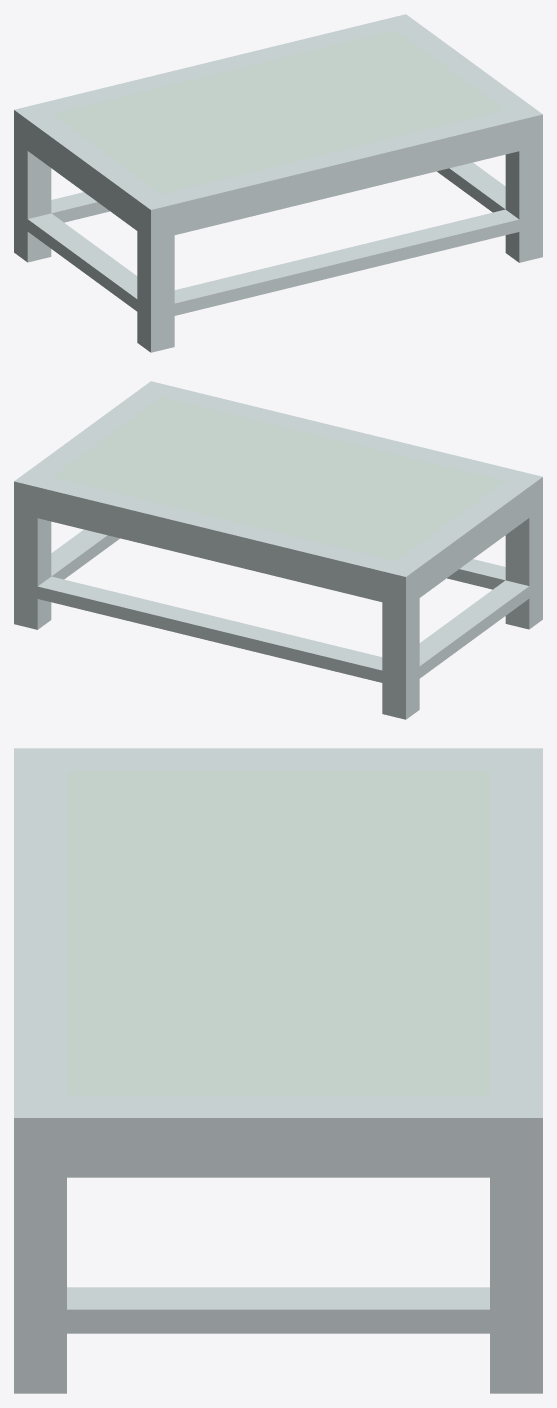
File: tableCoffeeGlass.glb
The picture shows the model from 3 angles, top to bottom: view 1: azimuth 30°, elevation 25°; view 2: azimuth 150°, elevation 25°; view 3: azimuth 270°, elevation 25°; orthographic projection. The views are drawn at different scales.
Visible parts, largest first — view 1: tableCoffeeGlass(Clone); view 2: tableCoffeeGlass(Clone); view 3: tableCoffeeGlass(Clone).
Boxes of the visible parts, box(x1,y1,x2,y2) form: tableCoffeeGlass(Clone): box(14, 14, 542, 352); tableCoffeeGlass(Clone): box(14, 381, 542, 719); tableCoffeeGlass(Clone): box(14, 748, 542, 1393).
Size of the model in its own units: 1.34 by 0.4669 by 0.812.
Materials: 2 (2 with a texture image).
